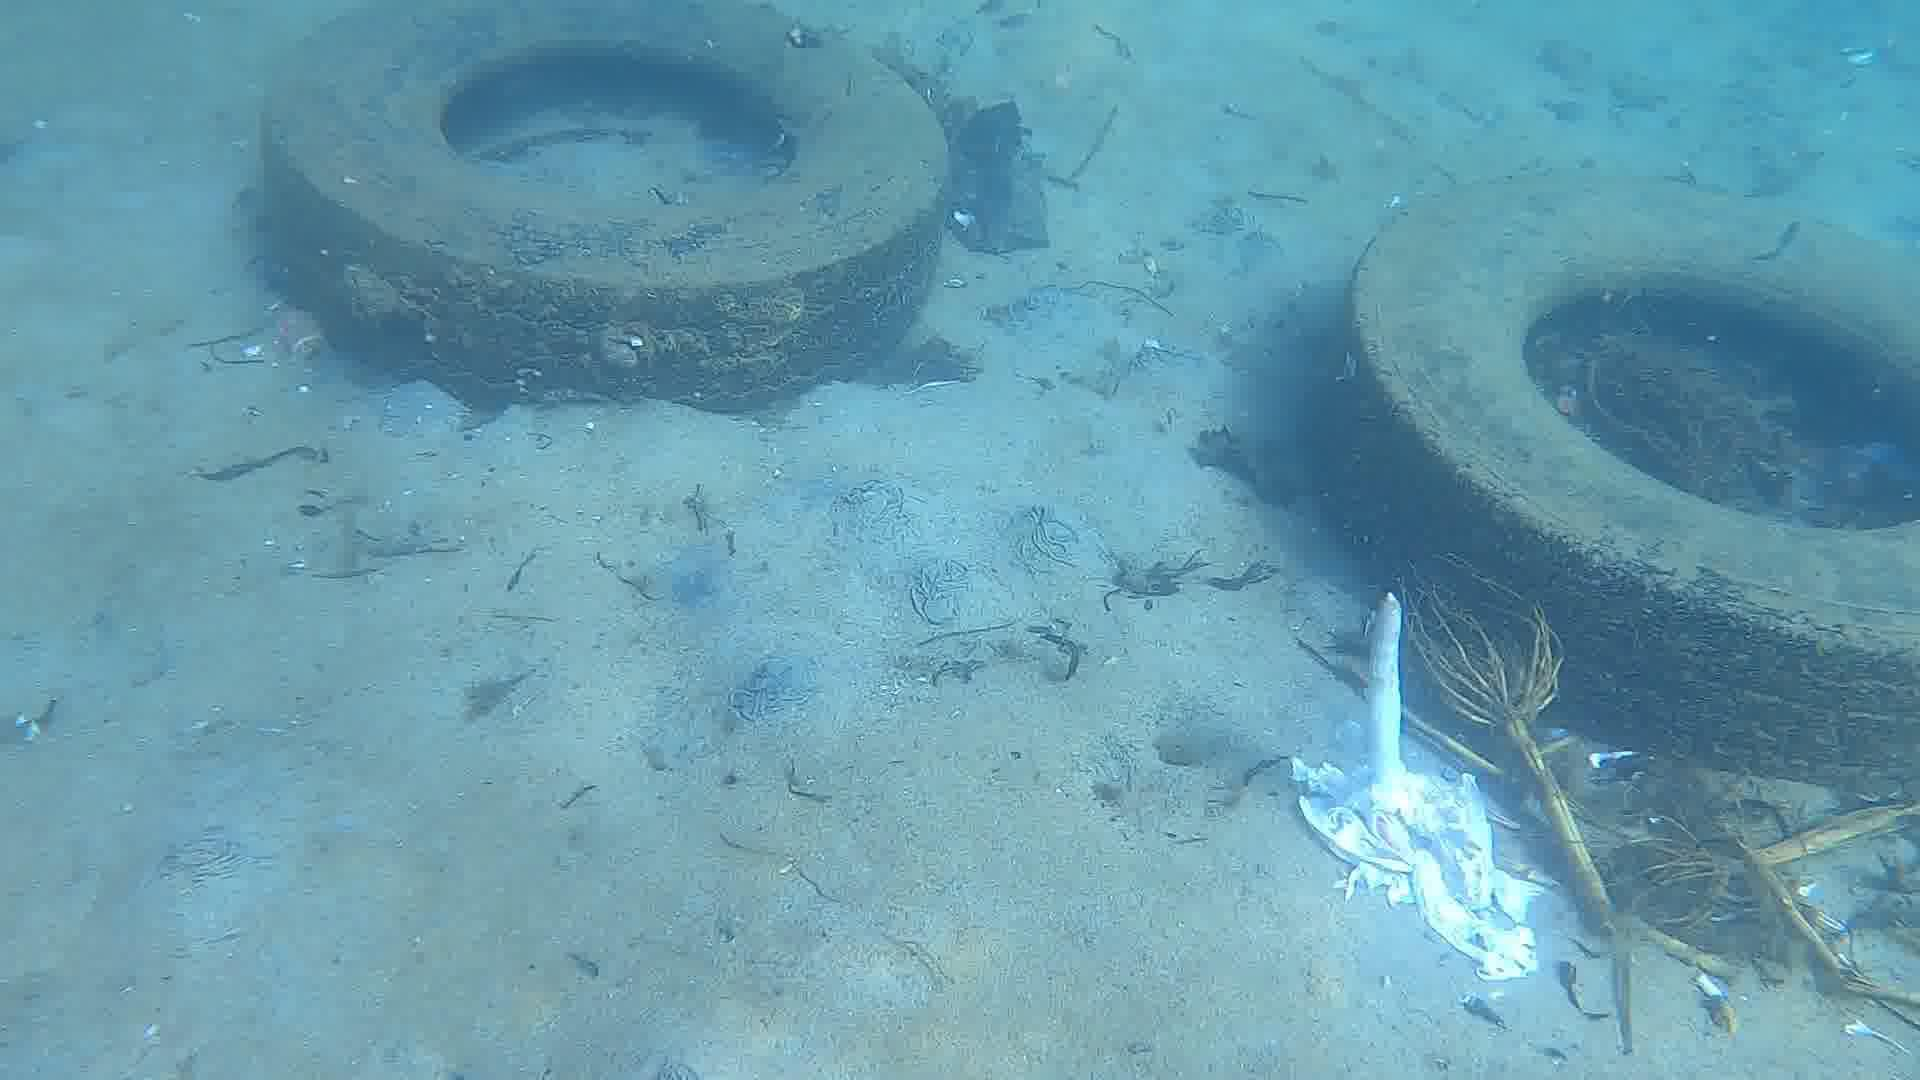tire: (1319, 162, 1920, 806), (260, 0, 951, 417)
